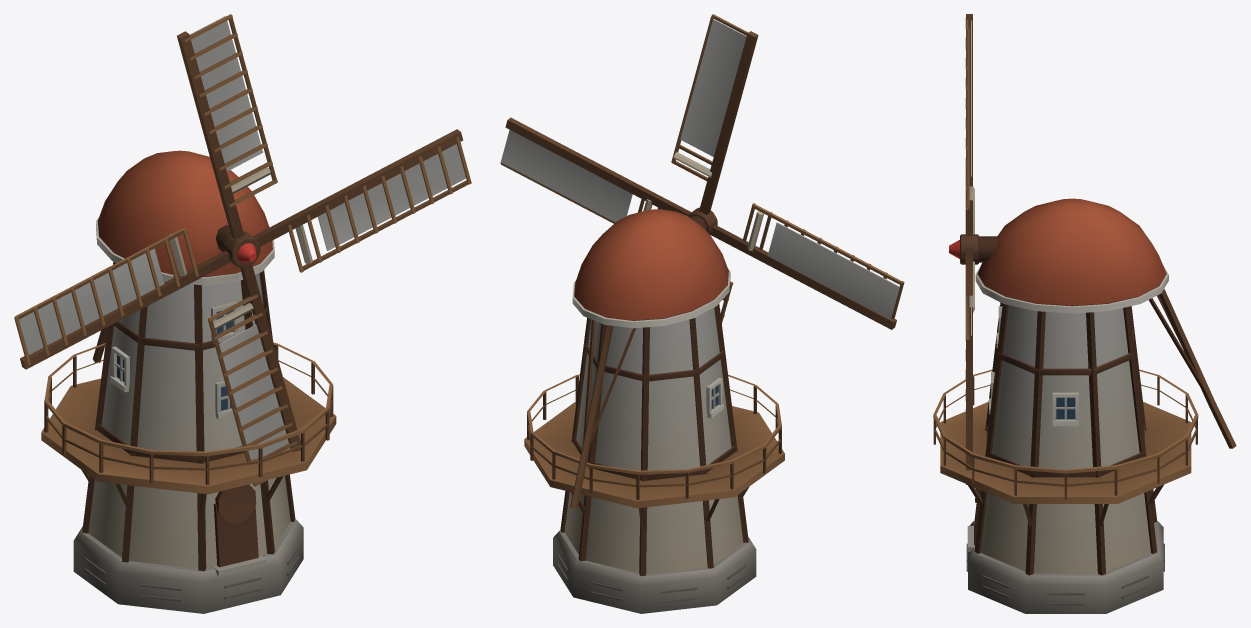
The model's file is prop.windmill.glb.
3 renders of one model, left to right at view 1: azimuth 30°, elevation 25°; view 2: azimuth 150°, elevation 25°; view 3: azimuth 270°, elevation 25°, orthographic. The views are drawn at different scales.
Parts seen in each view (by area): view 1: windmill, blades; view 2: windmill, blades; view 3: windmill, blades.
Boxes of the visible parts, x1,y1,x2,y2 form: windmill: [41, 150, 336, 613]; blades: [14, 14, 471, 486]; windmill: [524, 209, 784, 613]; blades: [500, 14, 904, 329]; windmill: [933, 198, 1236, 613]; blades: [949, 14, 978, 484].
Size of the model in its own units: 15.21 by 18.91 by 9.61.
